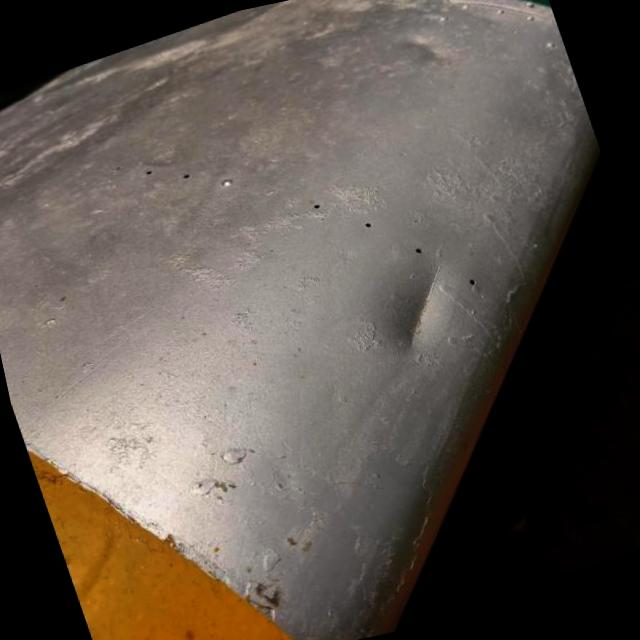dent: (368, 245, 476, 366)
